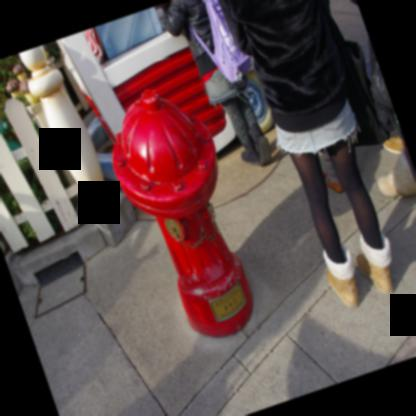backpack: (190, 0, 252, 86)
handbag: (329, 12, 390, 147)
